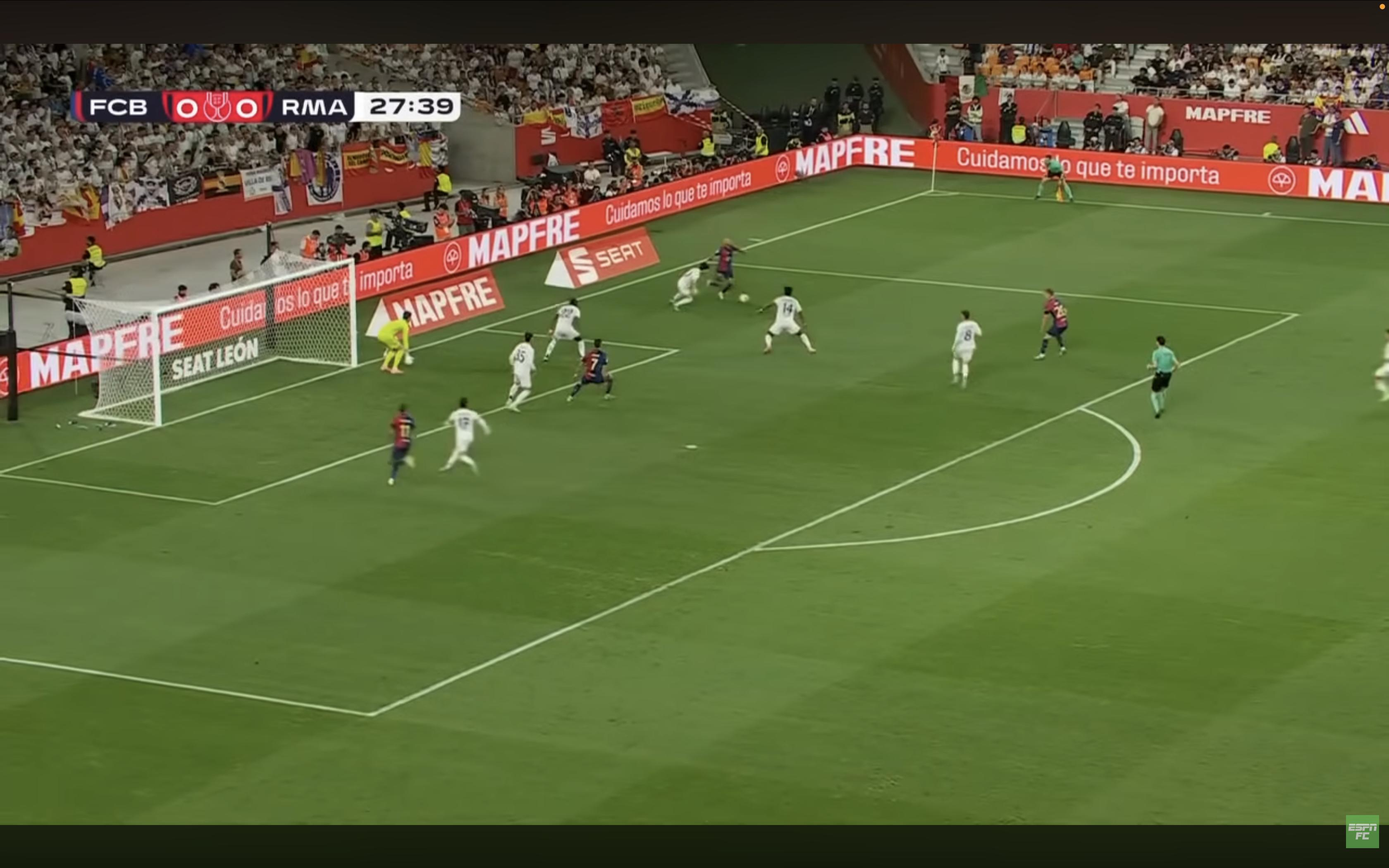ball: (738, 293, 749, 303)
goalkeeper: (378, 310, 412, 374)
player: (758, 287, 816, 353), (441, 397, 490, 473), (567, 339, 613, 401), (542, 298, 585, 361), (505, 331, 536, 412), (1035, 289, 1068, 360), (952, 310, 981, 388), (388, 404, 415, 484), (711, 238, 743, 299), (671, 262, 709, 310), (1375, 329, 1389, 401)
referee: (1148, 336, 1179, 418), (1034, 154, 1073, 202)
